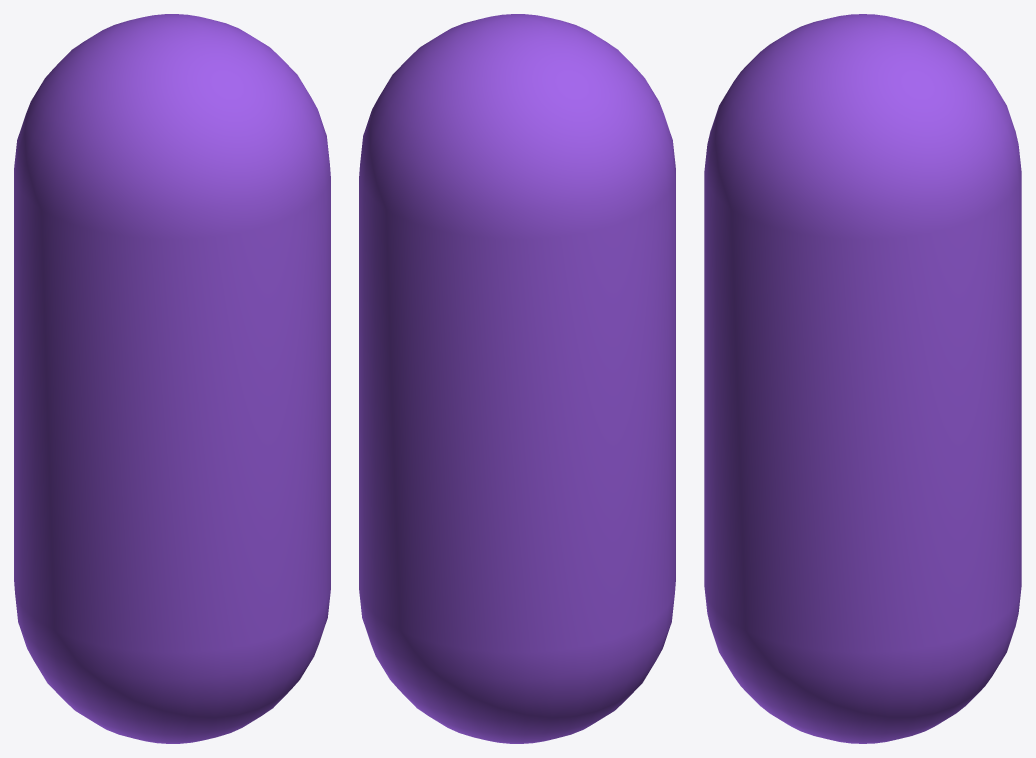
Rendered from notebook.glb.
The picture shows the model from 3 angles, left to right: view 1: azimuth 30°, elevation 25°; view 2: azimuth 150°, elevation 25°; view 3: azimuth 270°, elevation 25°; orthographic projection.
Visible parts, largest first — view 1: Sphere; view 2: Sphere; view 3: Sphere.
Boxes of the visible parts, left/top/right/bottom form: Sphere: left=14, top=14, right=330, bottom=743; Sphere: left=359, top=14, right=675, bottom=743; Sphere: left=704, top=14, right=1021, bottom=743.
Bounding box in the file's own units: 2 × 4.87 × 2.
